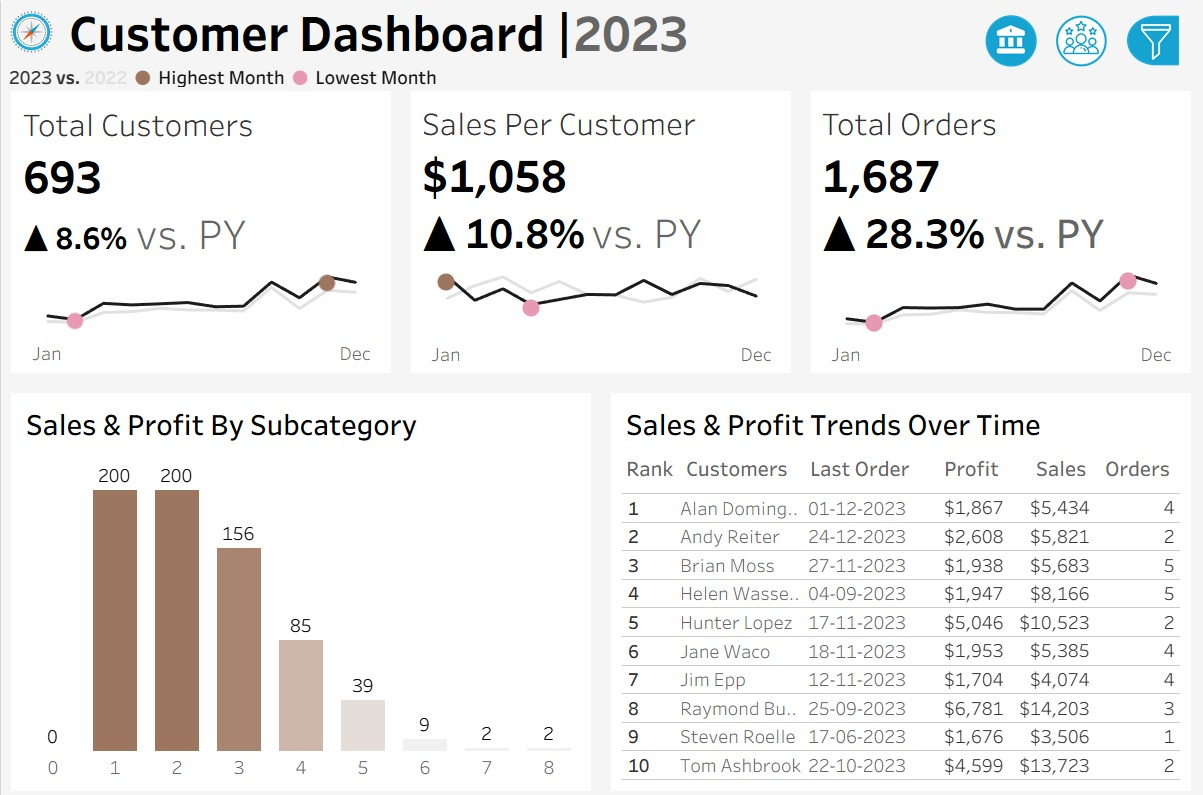

Layout of this report page (visuals, bound fields, positions):
{"tool":"tableau","page":{"name":"Customer Dashboard","canvas":[1200,800],"ordinal":0},"visuals":[{"type":"image","param":"Image/Icon - Logo.png","box":[0,0,60,61]},{"type":"text","box":[60,0,914,61]},{"type":"dashboard-object","box":[974,9,71,61]},{"type":"dashboard-object","box":[1045,9,71,61]},{"type":"dashboard-object","box":[1116,9,70,61]},{"type":"text","box":[988,12,198,160]},{"type":"worksheet","title":"Legend KPI","mark":"Automatic","box":[0,61,1200,29]},{"type":"worksheet","title":"KPI Total Customers","mark":"Automatic","rows":["Calculation_2190781041066011"],"cols":["Order Date"],"box":[0,90,400,292]},{"type":"worksheet","title":"KPI Sales Per Customer","mark":"Automatic","rows":["Calculation_2190781043343395"],"cols":["Order Date"],"box":[400,90,400,292]},{"type":"worksheet","title":"KPI Orders","mark":"Line","rows":["Calculation_2190781043695652"],"cols":["Order Date"],"box":[800,90,400,292]},{"type":"parameter","param":"[Parameters].[Parameter 1]","box":[988,172,198,78]},{"type":"text","box":[988,250,198,33]},{"type":"filter","title":"KPI Orders","param":"[federated.17im6u30encebm19gcxam1x1lwap].[none:Category:nk]","box":[988,283,198,70]},{"type":"filter","title":"KPI Orders","param":"[federated.17im6u30encebm19gcxam1x1lwap].[none:Sub-Category:nk]","box":[988,353,198,70]},{"type":"text","box":[17,399,566,47]},{"type":"text","box":[617,399,566,47]},{"type":"text","box":[988,423,198,33]},{"type":"worksheet","title":"Customer Distribution","mark":"Bar","rows":["Calculation_2190781040574489"],"cols":["Calculation_2190781114118189"],"box":[17,446,566,337]},{"type":"text","box":[617,446,60,42]},{"type":"text","box":[677,446,124,42]},{"type":"text","box":[801,446,134,42]},{"type":"text","box":[935,446,91.5,42]},{"type":"text","box":[1026.5,446,69,42]},{"type":"text","box":[1095.5,446,87.5,42]},{"type":"filter","title":"KPI Orders","param":"[federated.17im6u30encebm19gcxam1x1lwap].[none:Region:nk]","box":[988,456,198,70]},{"type":"worksheet","title":"Top Customers","mark":"Text","rows":["Calculation_2190781290123310","Customer Name","Order Date"],"box":[617,488,566,295]},{"type":"filter","title":"KPI Orders","param":"[federated.17im6u30encebm19gcxam1x1lwap].[none:State:nk]","box":[988,526,198,70]},{"type":"filter","title":"KPI Orders","param":"[federated.17im6u30encebm19gcxam1x1lwap].[none:City:nk]","box":[988,596,198,70]}]}

Visuals, with their boxes in screenshot pixels (x1, y1, x2, y2), scaled from the page's 1200x800 canvas onto the 1203x795 screenshot:
image: [x1=0, y1=0, x2=60, y2=61]
text: [x1=60, y1=0, x2=976, y2=61]
dashboard-object: [x1=976, y1=9, x2=1048, y2=70]
dashboard-object: [x1=1048, y1=9, x2=1119, y2=70]
dashboard-object: [x1=1119, y1=9, x2=1189, y2=70]
text: [x1=990, y1=12, x2=1189, y2=171]
"Legend KPI" worksheet: [x1=0, y1=61, x2=1202, y2=89]
"KPI Total Customers" worksheet: [x1=0, y1=89, x2=401, y2=380]
"KPI Sales Per Customer" worksheet: [x1=401, y1=89, x2=802, y2=380]
"KPI Orders" worksheet (Line marks): [x1=802, y1=89, x2=1202, y2=380]
parameter: [x1=990, y1=171, x2=1189, y2=248]
text: [x1=990, y1=248, x2=1189, y2=281]
"KPI Orders" filter: [x1=990, y1=281, x2=1189, y2=351]
"KPI Orders" filter: [x1=990, y1=351, x2=1189, y2=420]
text: [x1=17, y1=397, x2=584, y2=443]
text: [x1=619, y1=397, x2=1186, y2=443]
text: [x1=990, y1=420, x2=1189, y2=453]
"Customer Distribution" worksheet (Bar marks): [x1=17, y1=443, x2=584, y2=778]
text: [x1=619, y1=443, x2=679, y2=485]
text: [x1=679, y1=443, x2=803, y2=485]
text: [x1=803, y1=443, x2=937, y2=485]
text: [x1=937, y1=443, x2=1029, y2=485]
text: [x1=1029, y1=443, x2=1098, y2=485]
text: [x1=1098, y1=443, x2=1186, y2=485]
"KPI Orders" filter: [x1=990, y1=453, x2=1189, y2=523]
"Top Customers" worksheet (Text marks): [x1=619, y1=485, x2=1186, y2=778]
"KPI Orders" filter: [x1=990, y1=523, x2=1189, y2=592]
"KPI Orders" filter: [x1=990, y1=592, x2=1189, y2=662]
